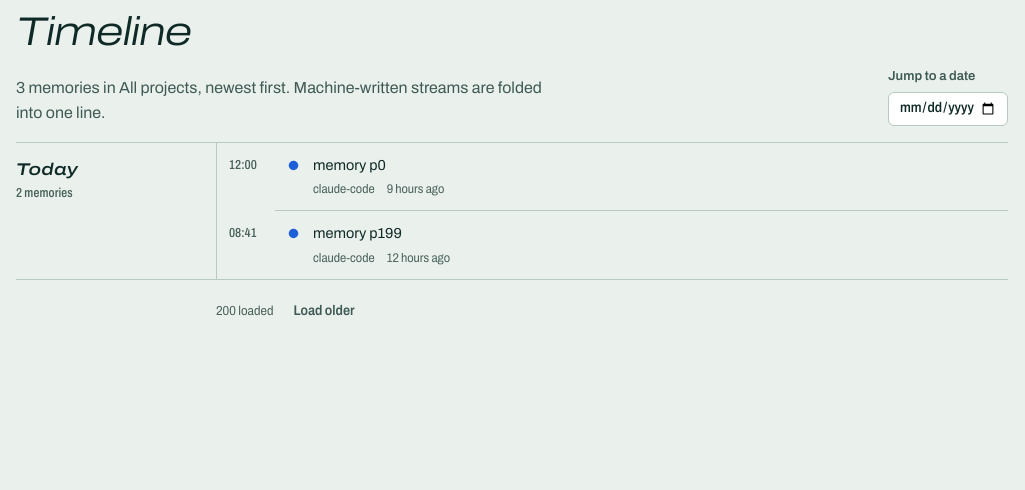
Test case: TimelineView › pages older memories beneath the first page, pinned to its newest instant
Click the button "Load older" at (324, 311), box [285, 296, 362, 326]
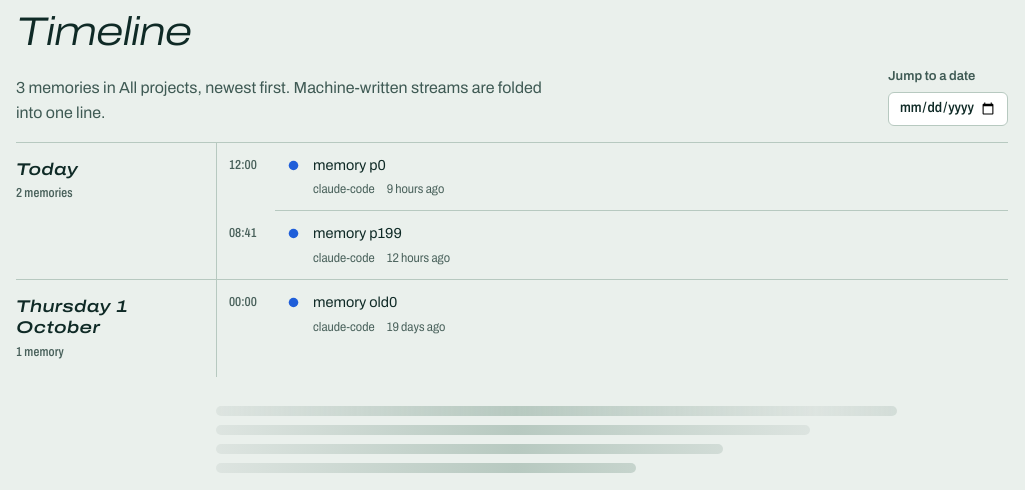
Check: the button "memory old0 claude-code 19 days ago" is shown, box [275, 280, 1008, 348]
Check: the button "Load older" is gone
